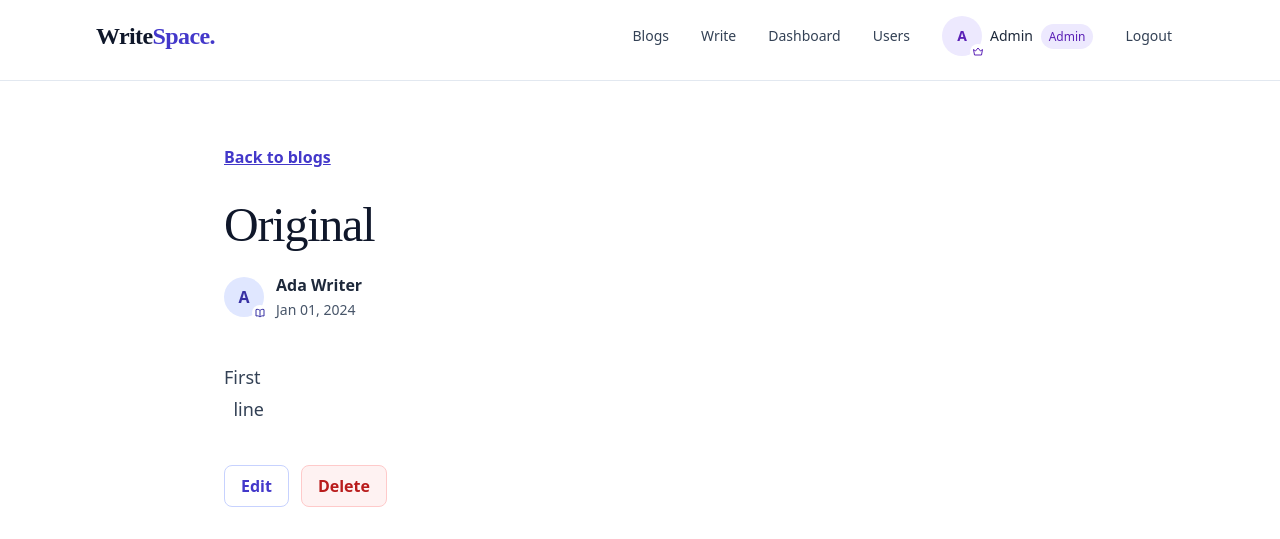
Test: post authoring › lets admin delete another writer’s post and preserves newly added records
Click the button "Delete".
click(344, 486)  # box [301,465,387,507]
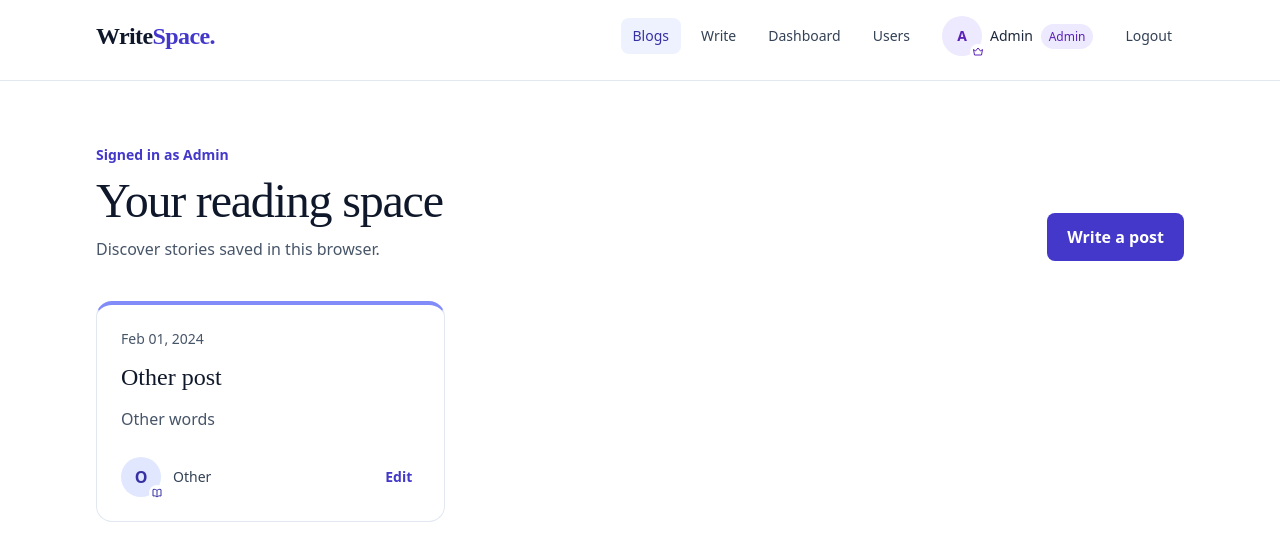
Now the heading "Your reading space" is shown, box [96,177,443,225]
